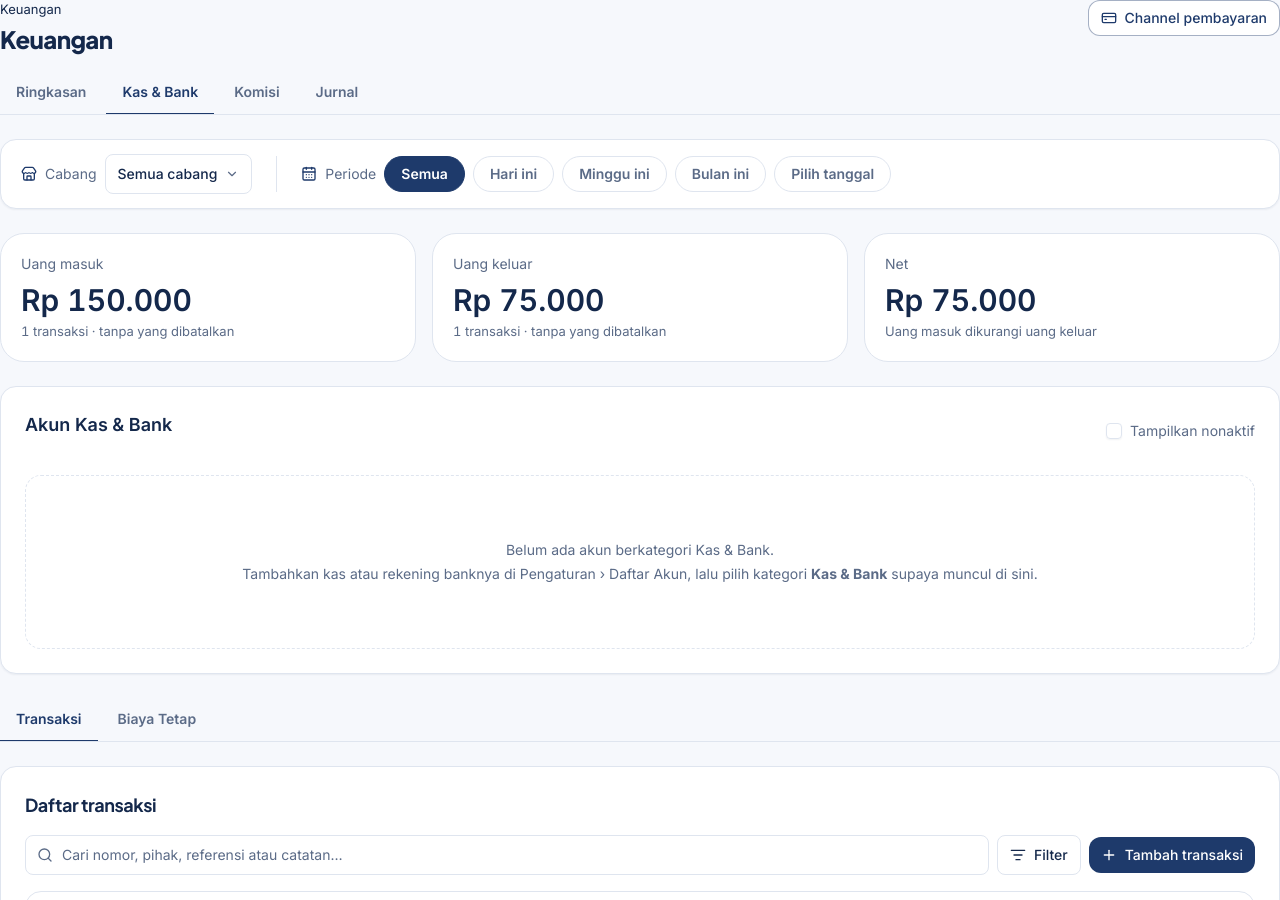
Scenario: Kas & Bank — transaksi: filters › applies Tipe from the panel, and counts it on the Filter button
Expected: the element "Tipe" is not shown
Click the button "Filter" at {"x": 1039, "y": 855}, box [997,835,1081,875]
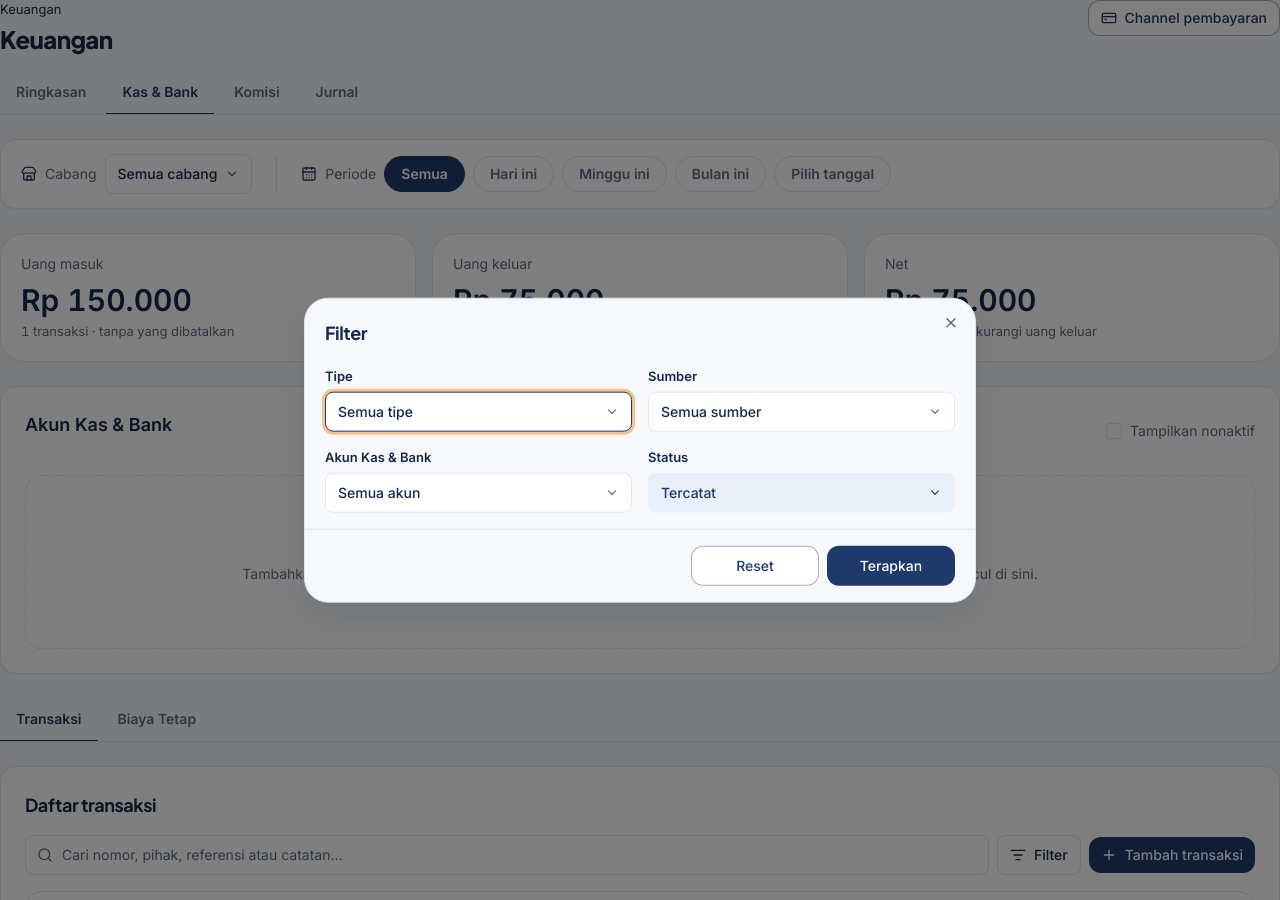
Click the button with aria-label "Filter tipe" at {"x": 375, "y": 411}, box [325,392,632,432]
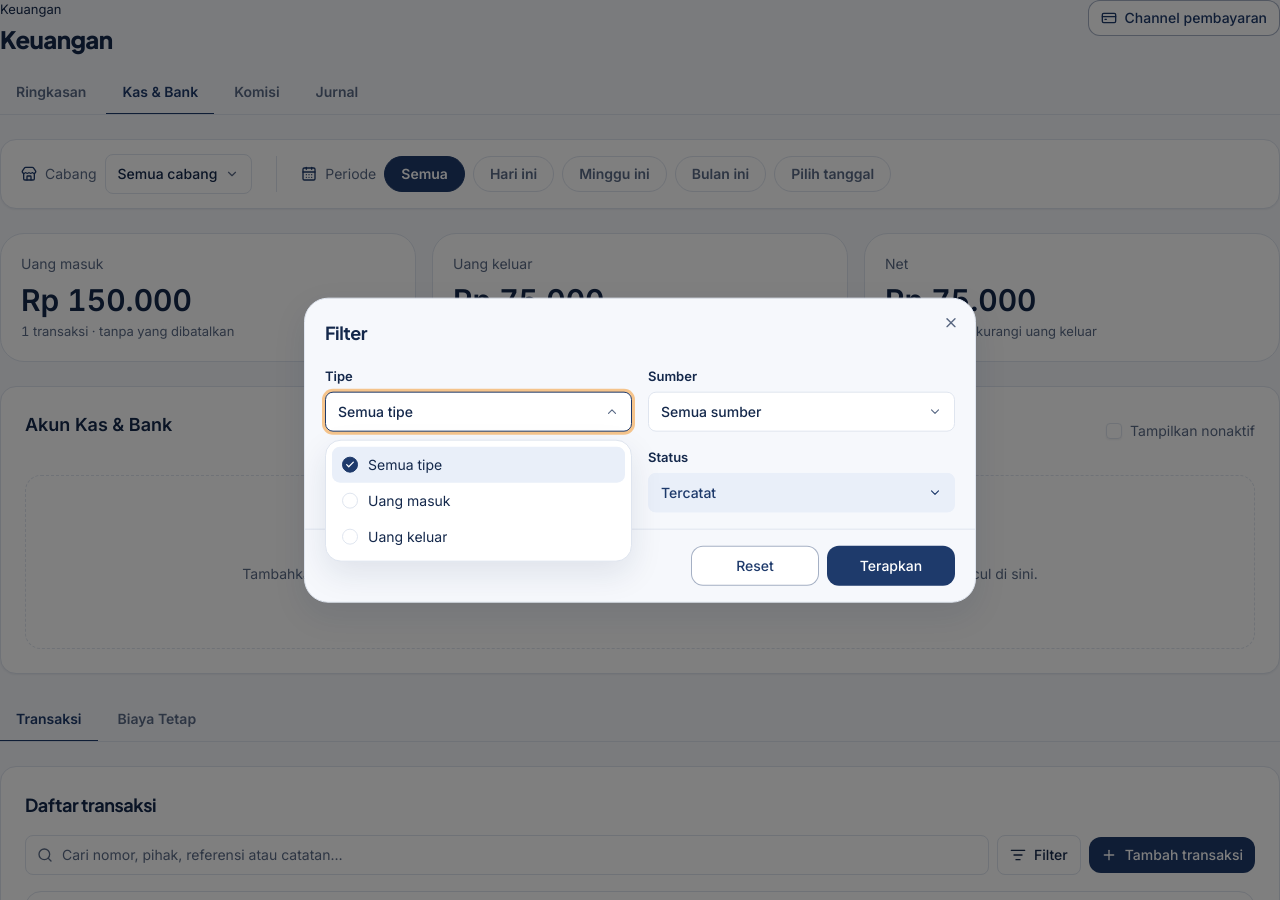
Click the option "Uang keluar" at {"x": 395, "y": 536}, box [342,528,447,545]
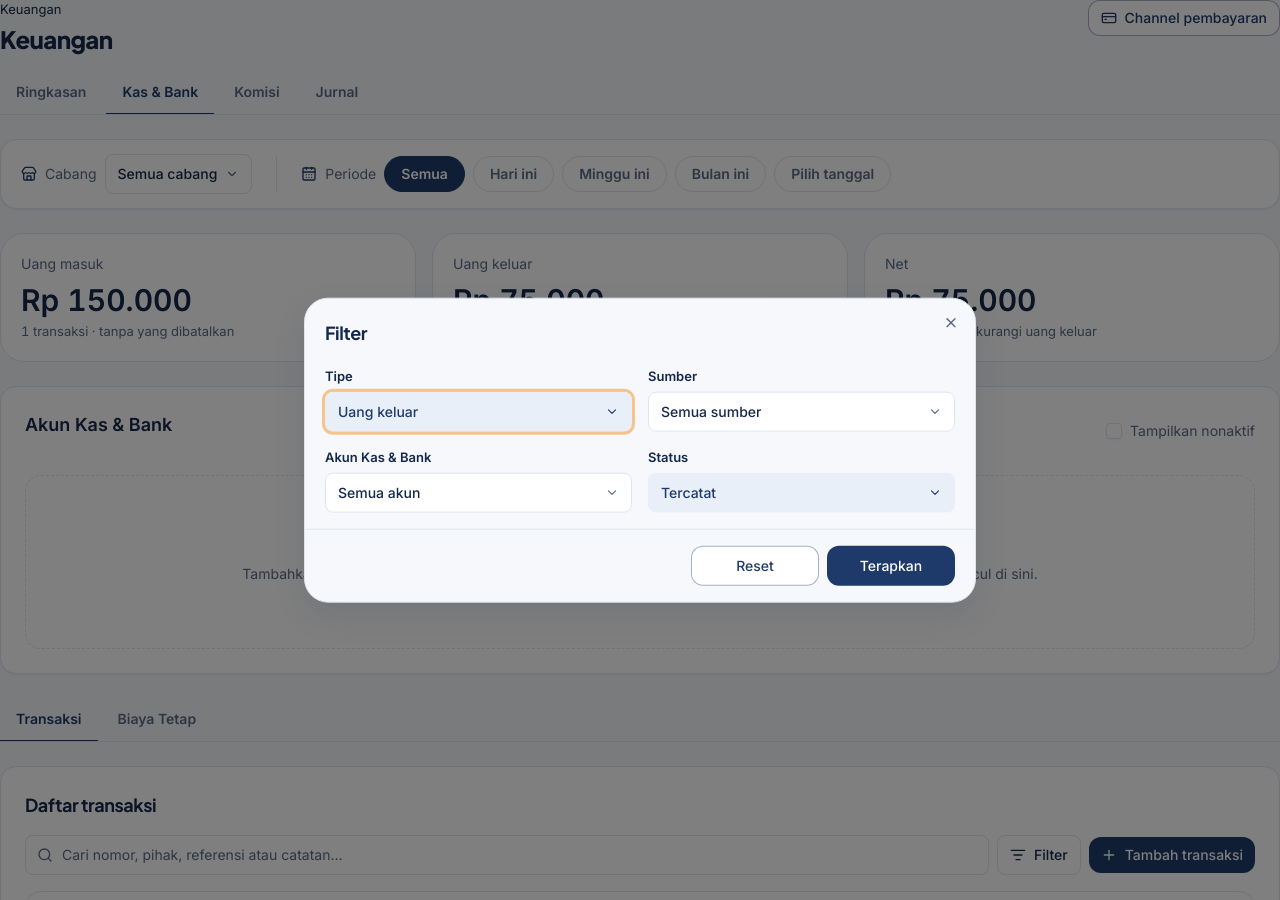
Click the button "Terapkan" at {"x": 891, "y": 565}, box [827,545,955,585]
(page scrolled)
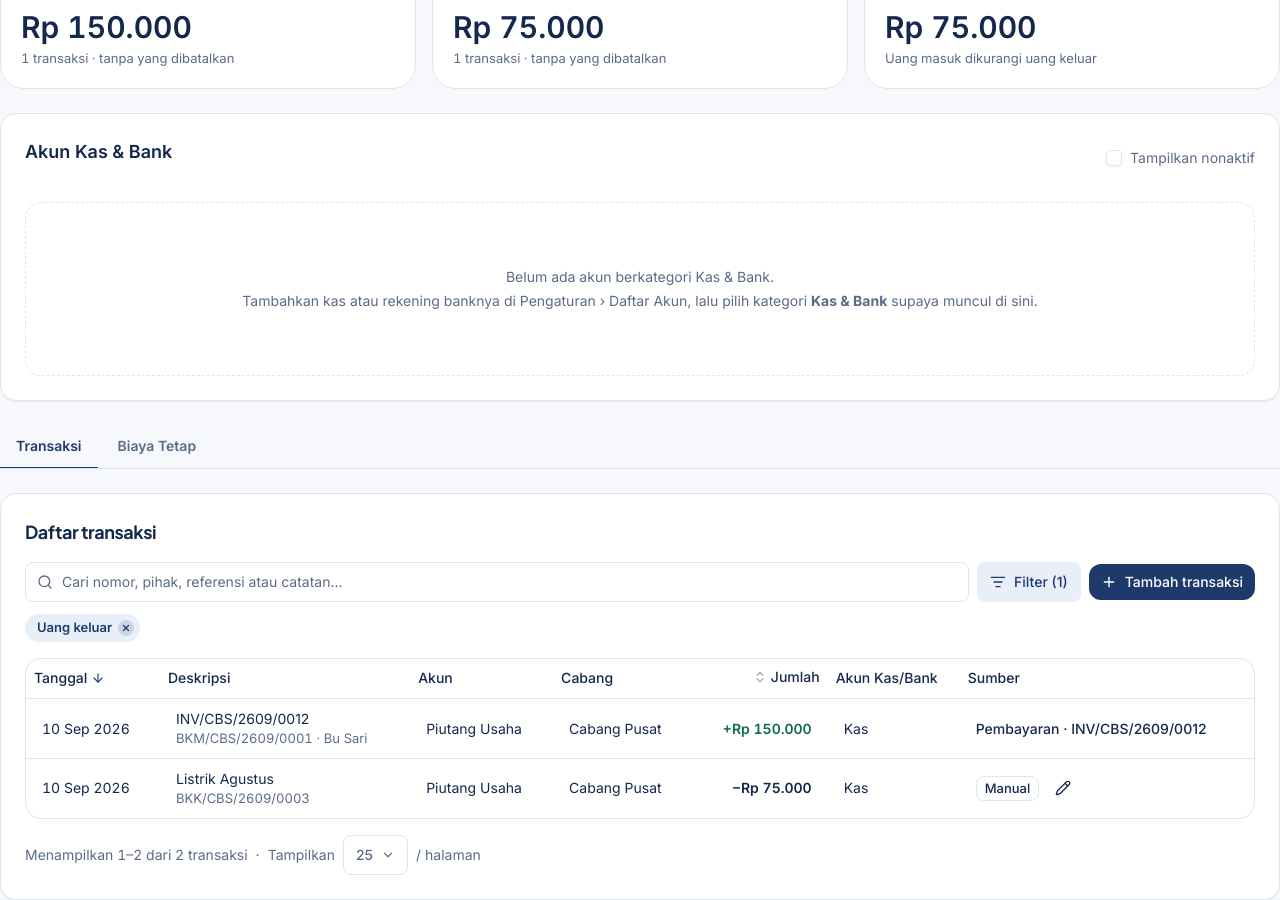
Now the button "Filter (1)" is shown, box [977,562,1081,602]
Now the button named "Hapus filter Uang keluar" is shown, box [118,620,134,636]
